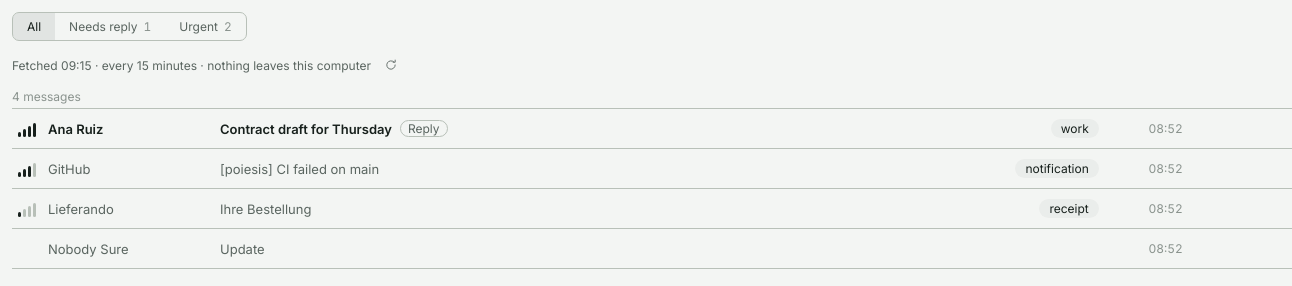
Test: the status line › looks now on the button, and the button waits while a look is running
Click the button with class "mail-refresh" at [391, 65], box [379, 53, 403, 77]
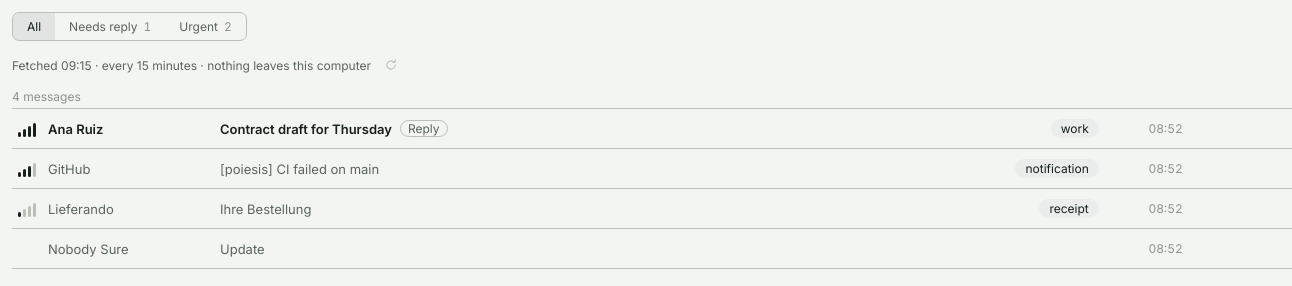
Expected: the button with class "mail-refresh" is disabled, [379, 53, 403, 77]
